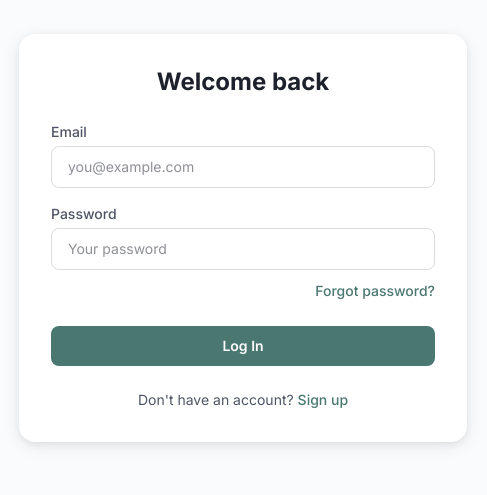
LoginPage › shows error on invalid credentials (401)
In the field labelled "Email": (243, 167) [51,146,435,188], type "imane@example.com"
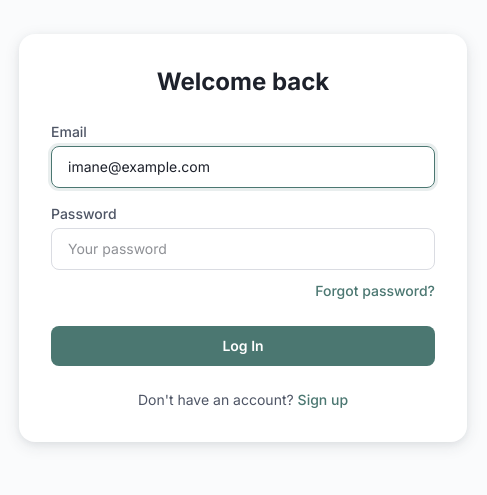
In the password field labelled "Password": (243, 249) [51,228,435,270], type "wrongpassword"
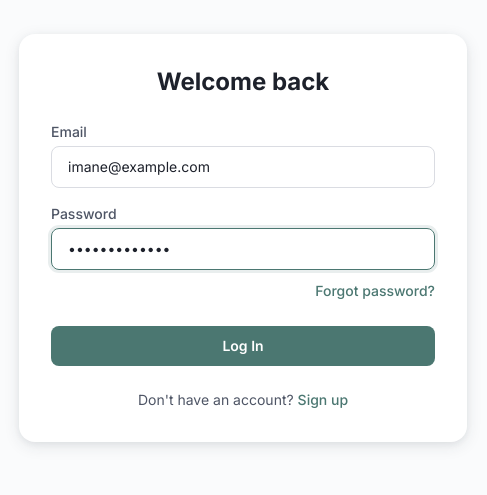
Click the button "Log In": (243, 346) [51,326,435,366]
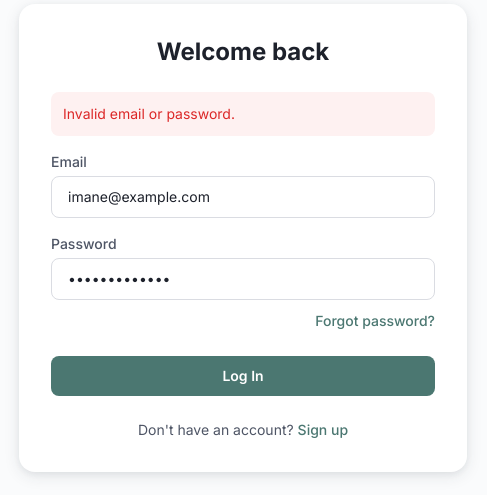
Check: the text "Invalid email or password." is shown, box [51,92,435,136]
